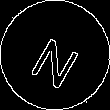N_NE: (25, 23, 85, 87)
